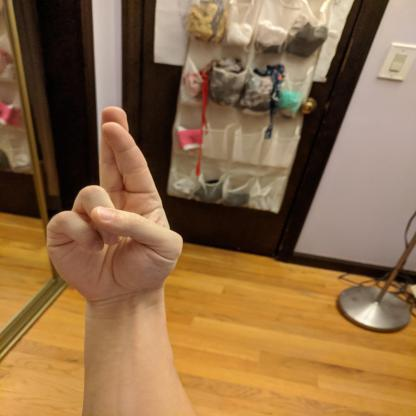R: (45, 105, 186, 318)
